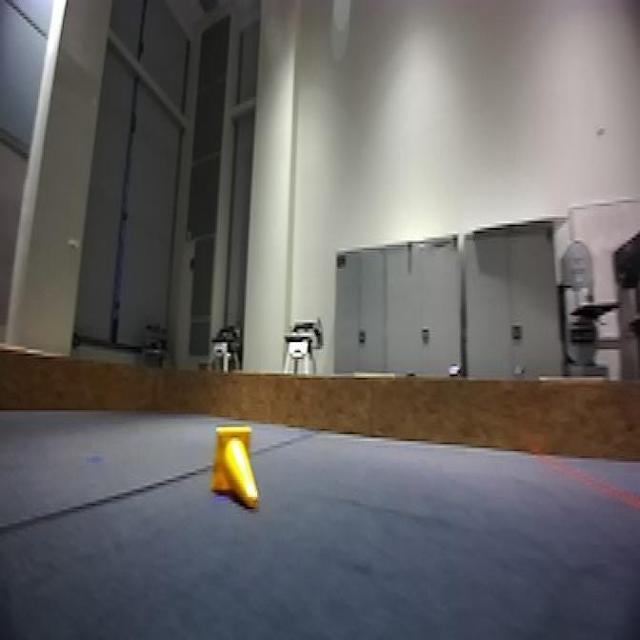frc_cone: (208, 420, 262, 508)
